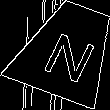N_NE: (36, 20, 100, 81)
